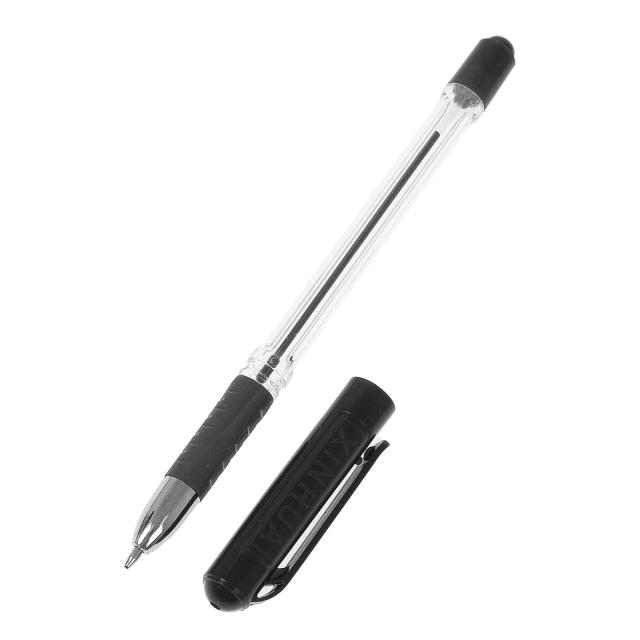pen: (122, 36, 521, 570)
